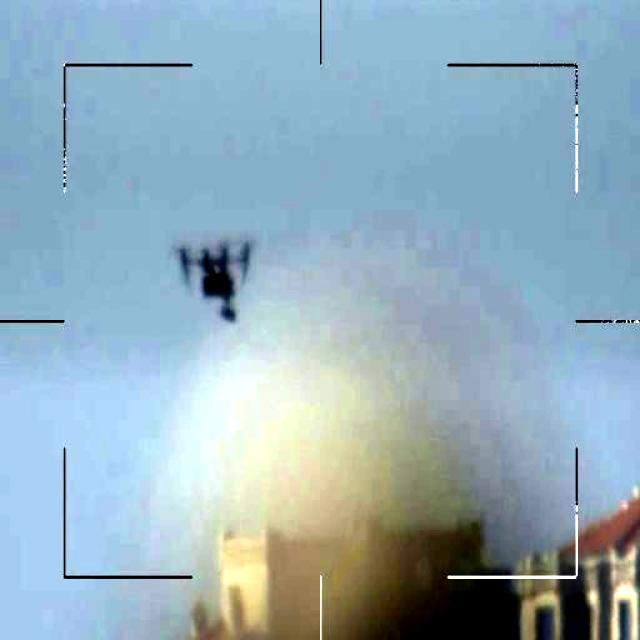bird: (166, 239, 252, 325)
